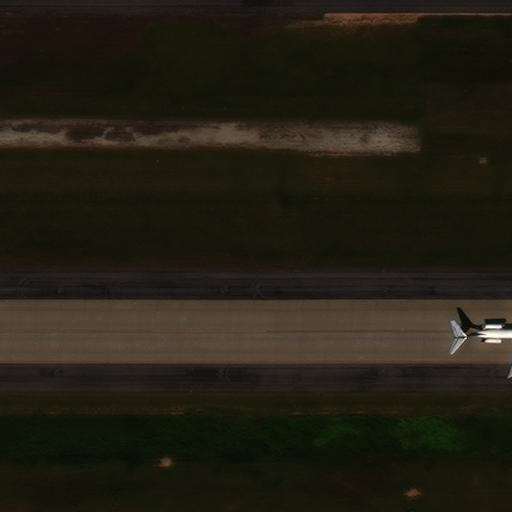Medium Civil Transport: (449, 291, 511, 376)
